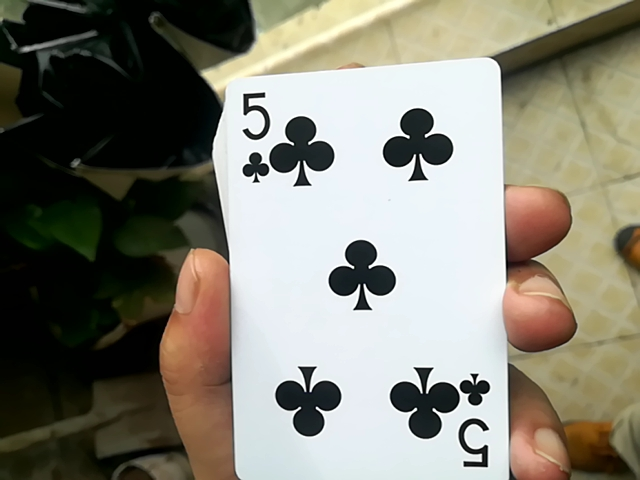mh 5: (202, 61, 522, 475)
